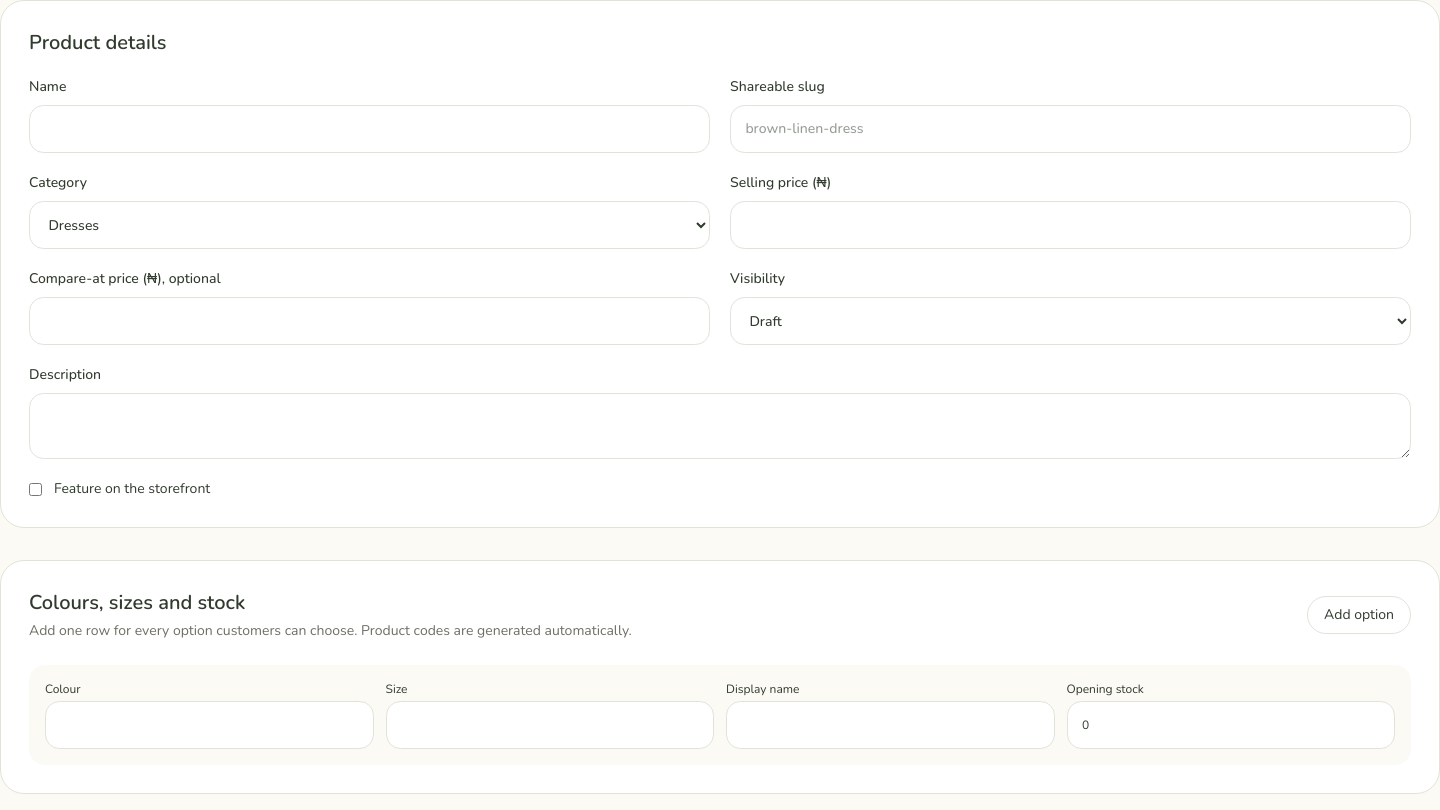
Test: AdminProductForm › adds and removes option rows
The width and height of the screenshot is (1440, 810).
Click the button "Add option" at (1359, 615), box [1307,596,1411,634]
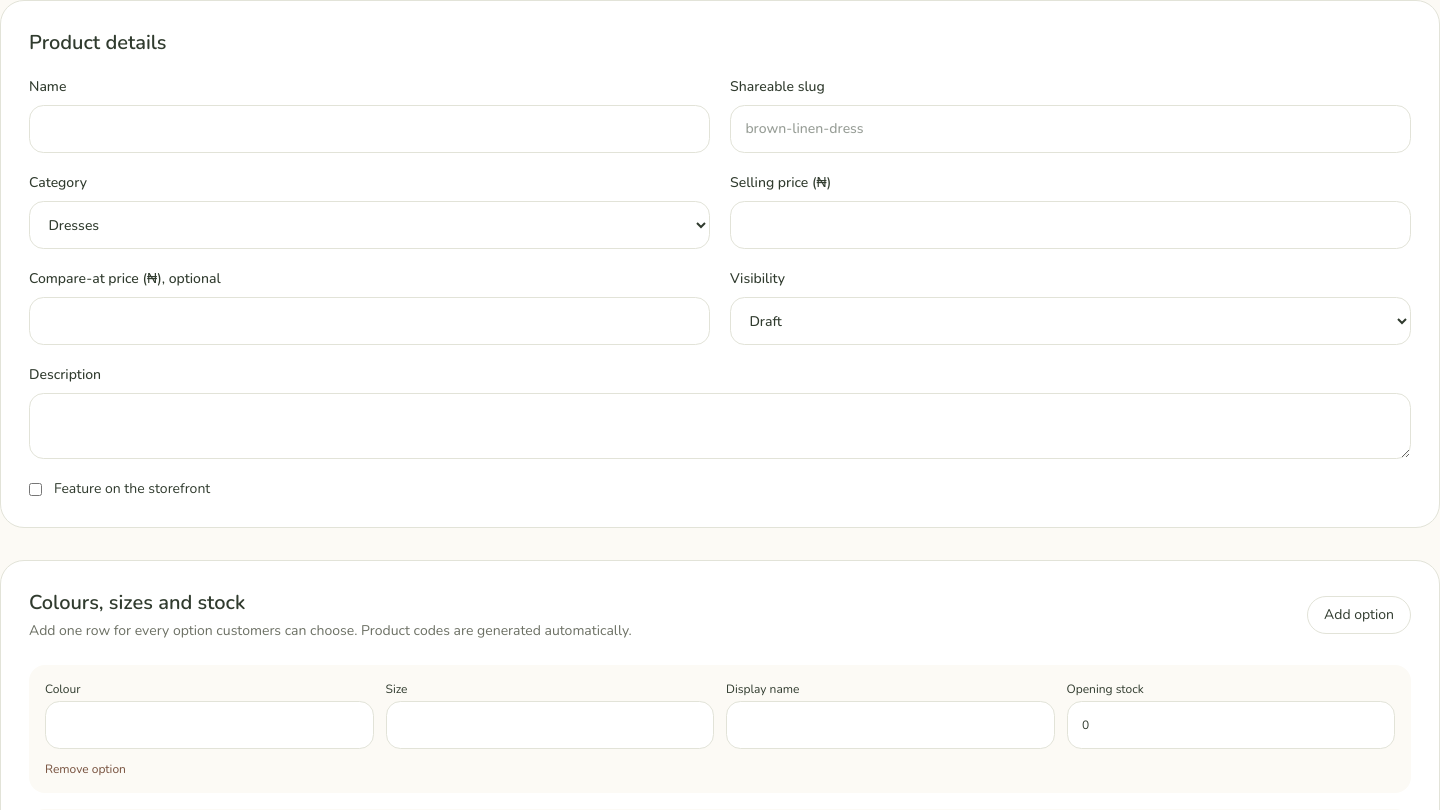
expect the number of fields labelled "Colour" is 2: met
Click the button "Remove option" at (85, 769), box [45,761,126,777]
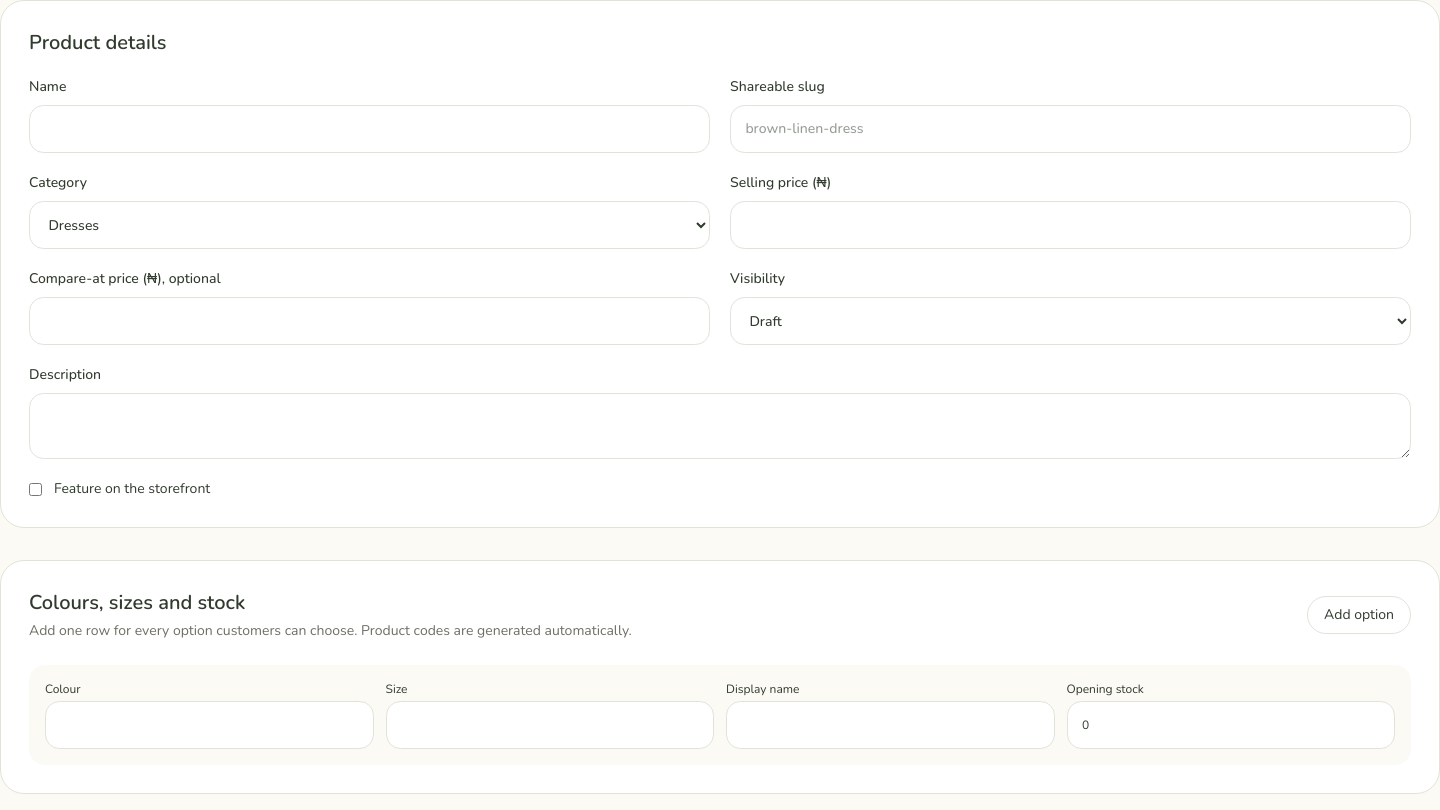
expect the number of fields labelled "Colour" is 1: met, box [45,701,374,749]
